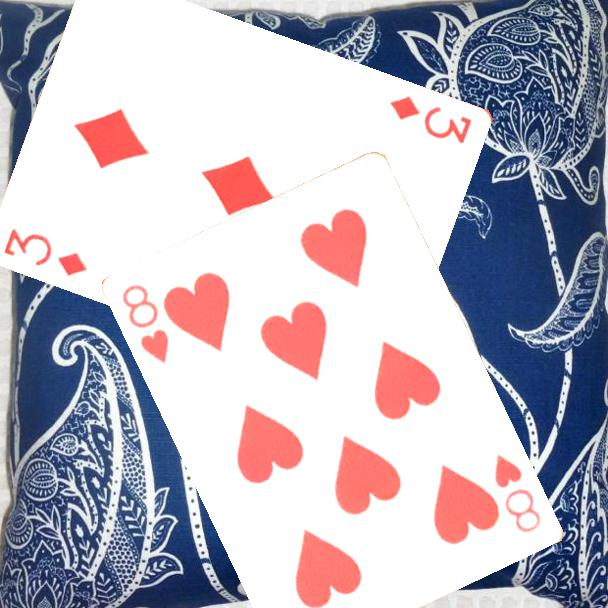d03: (386, 91, 476, 147), (1, 225, 91, 279)
h08: (119, 281, 173, 367), (491, 451, 545, 536)
